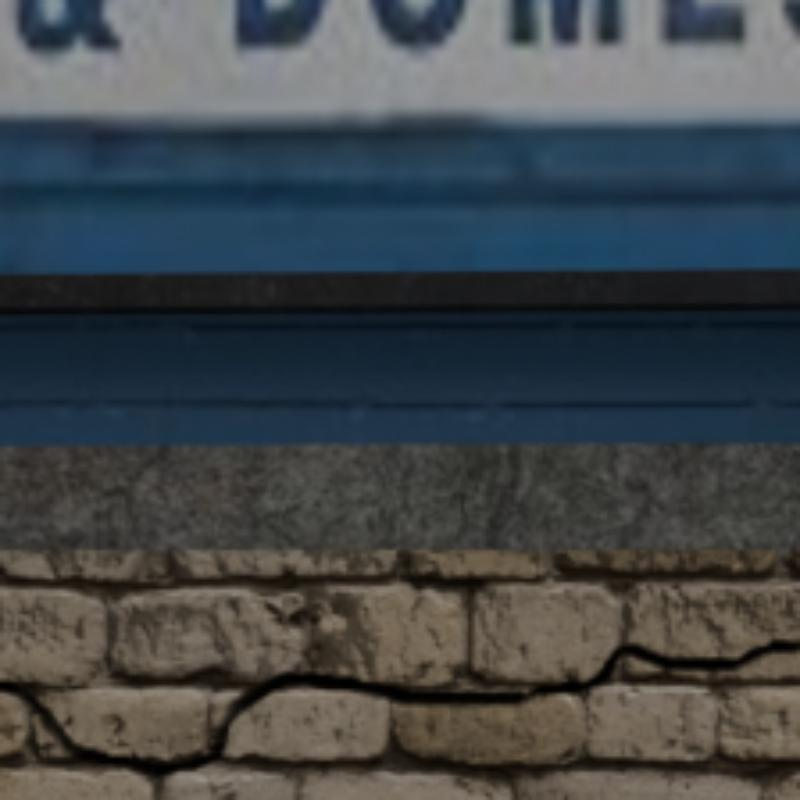pothole: (0, 639, 796, 775)
